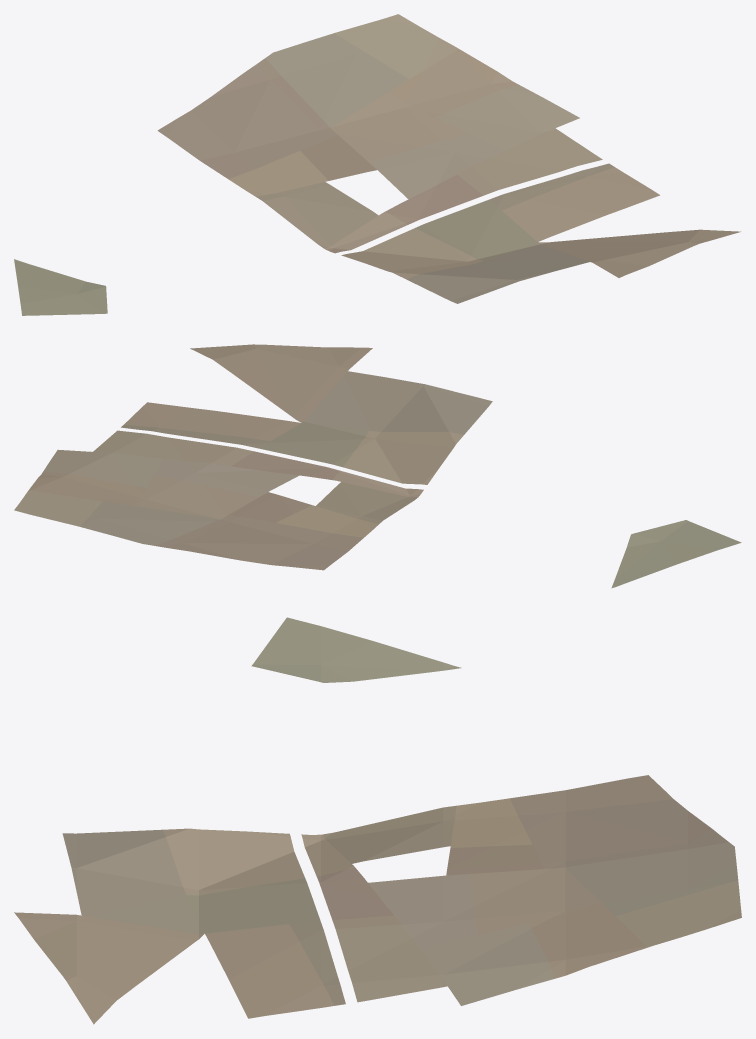
Rendered from farm_-29_-28_soil.glb.
3 renders of one model, top to bottom at view 1: azimuth 30°, elevation 25°; view 2: azimuth 150°, elevation 25°; view 3: azimuth 270°, elevation 25°, orthographic. The views are drawn at different scales.
Parts seen in each view (by area): view 1: geometry_0; view 2: geometry_0; view 3: geometry_0.
Boxes of the visible parts, <box> form: geometry_0: <box>14,14,740,315</box>; geometry_0: <box>14,344,741,588</box>; geometry_0: <box>14,617,741,1024</box>.
Size of the model in its own units: 601 by 47.03 by 476.
